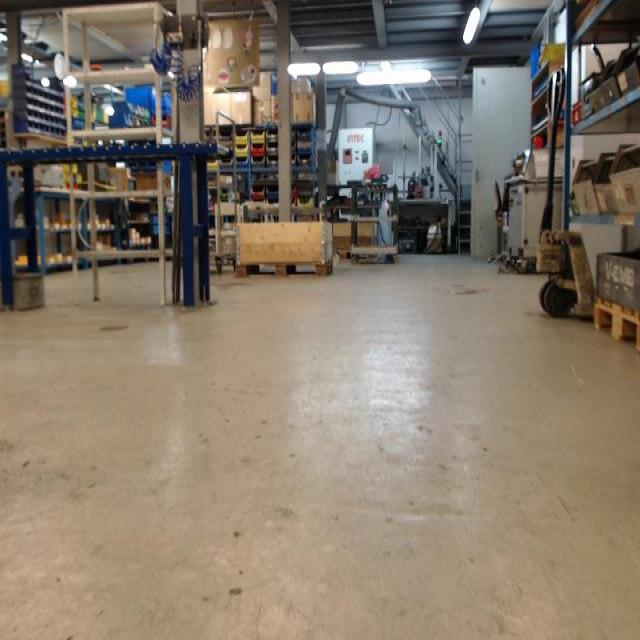pallet: (592, 294, 640, 355), (234, 257, 334, 280)
pallet_truck: (530, 59, 598, 328)
